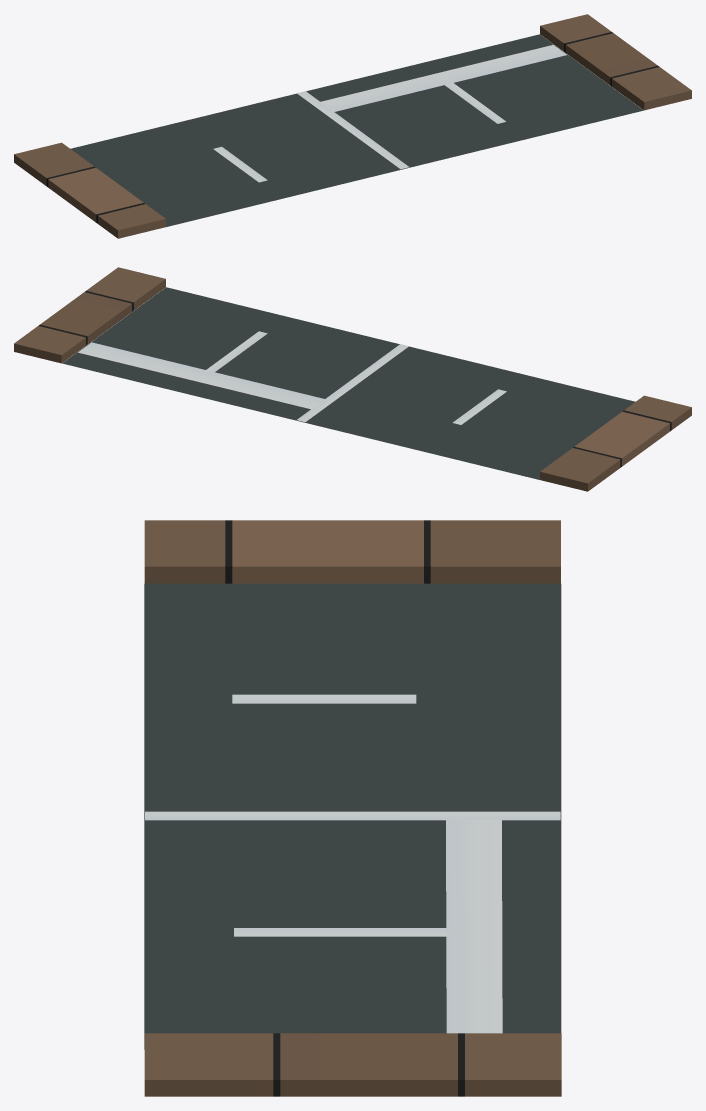
Rendered from Road_1_208.fbx.
3 views of the same model, one above another, from view 1: azimuth 30°, elevation 25°; view 2: azimuth 150°, elevation 25°; view 3: azimuth 270°, elevation 25° (orthographic). The views are drawn at different scales.
Parts seen in each view (by area): view 1: Road_1_208; view 2: Road_1_208; view 3: Road_1_208.
Part boxes in pixels (left/top/right/bottom): Road_1_208: left=14, top=14, right=691, bottom=238; Road_1_208: left=14, top=267, right=691, bottom=491; Road_1_208: left=144, top=520, right=561, bottom=1096.
Bounding box in the file's own units: 2161 × 30 × 680.
